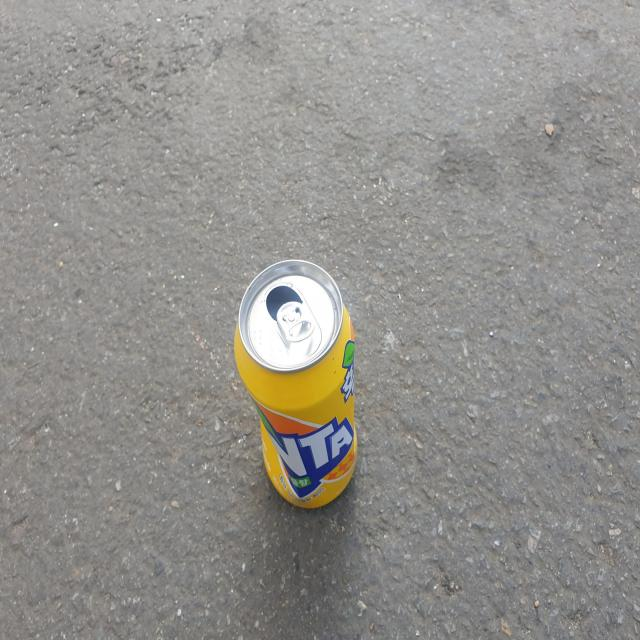can: (235, 259, 358, 508)
